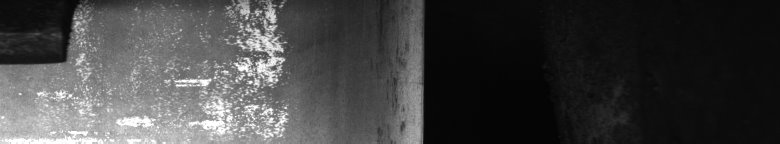kb: (4, 4, 290, 136)
